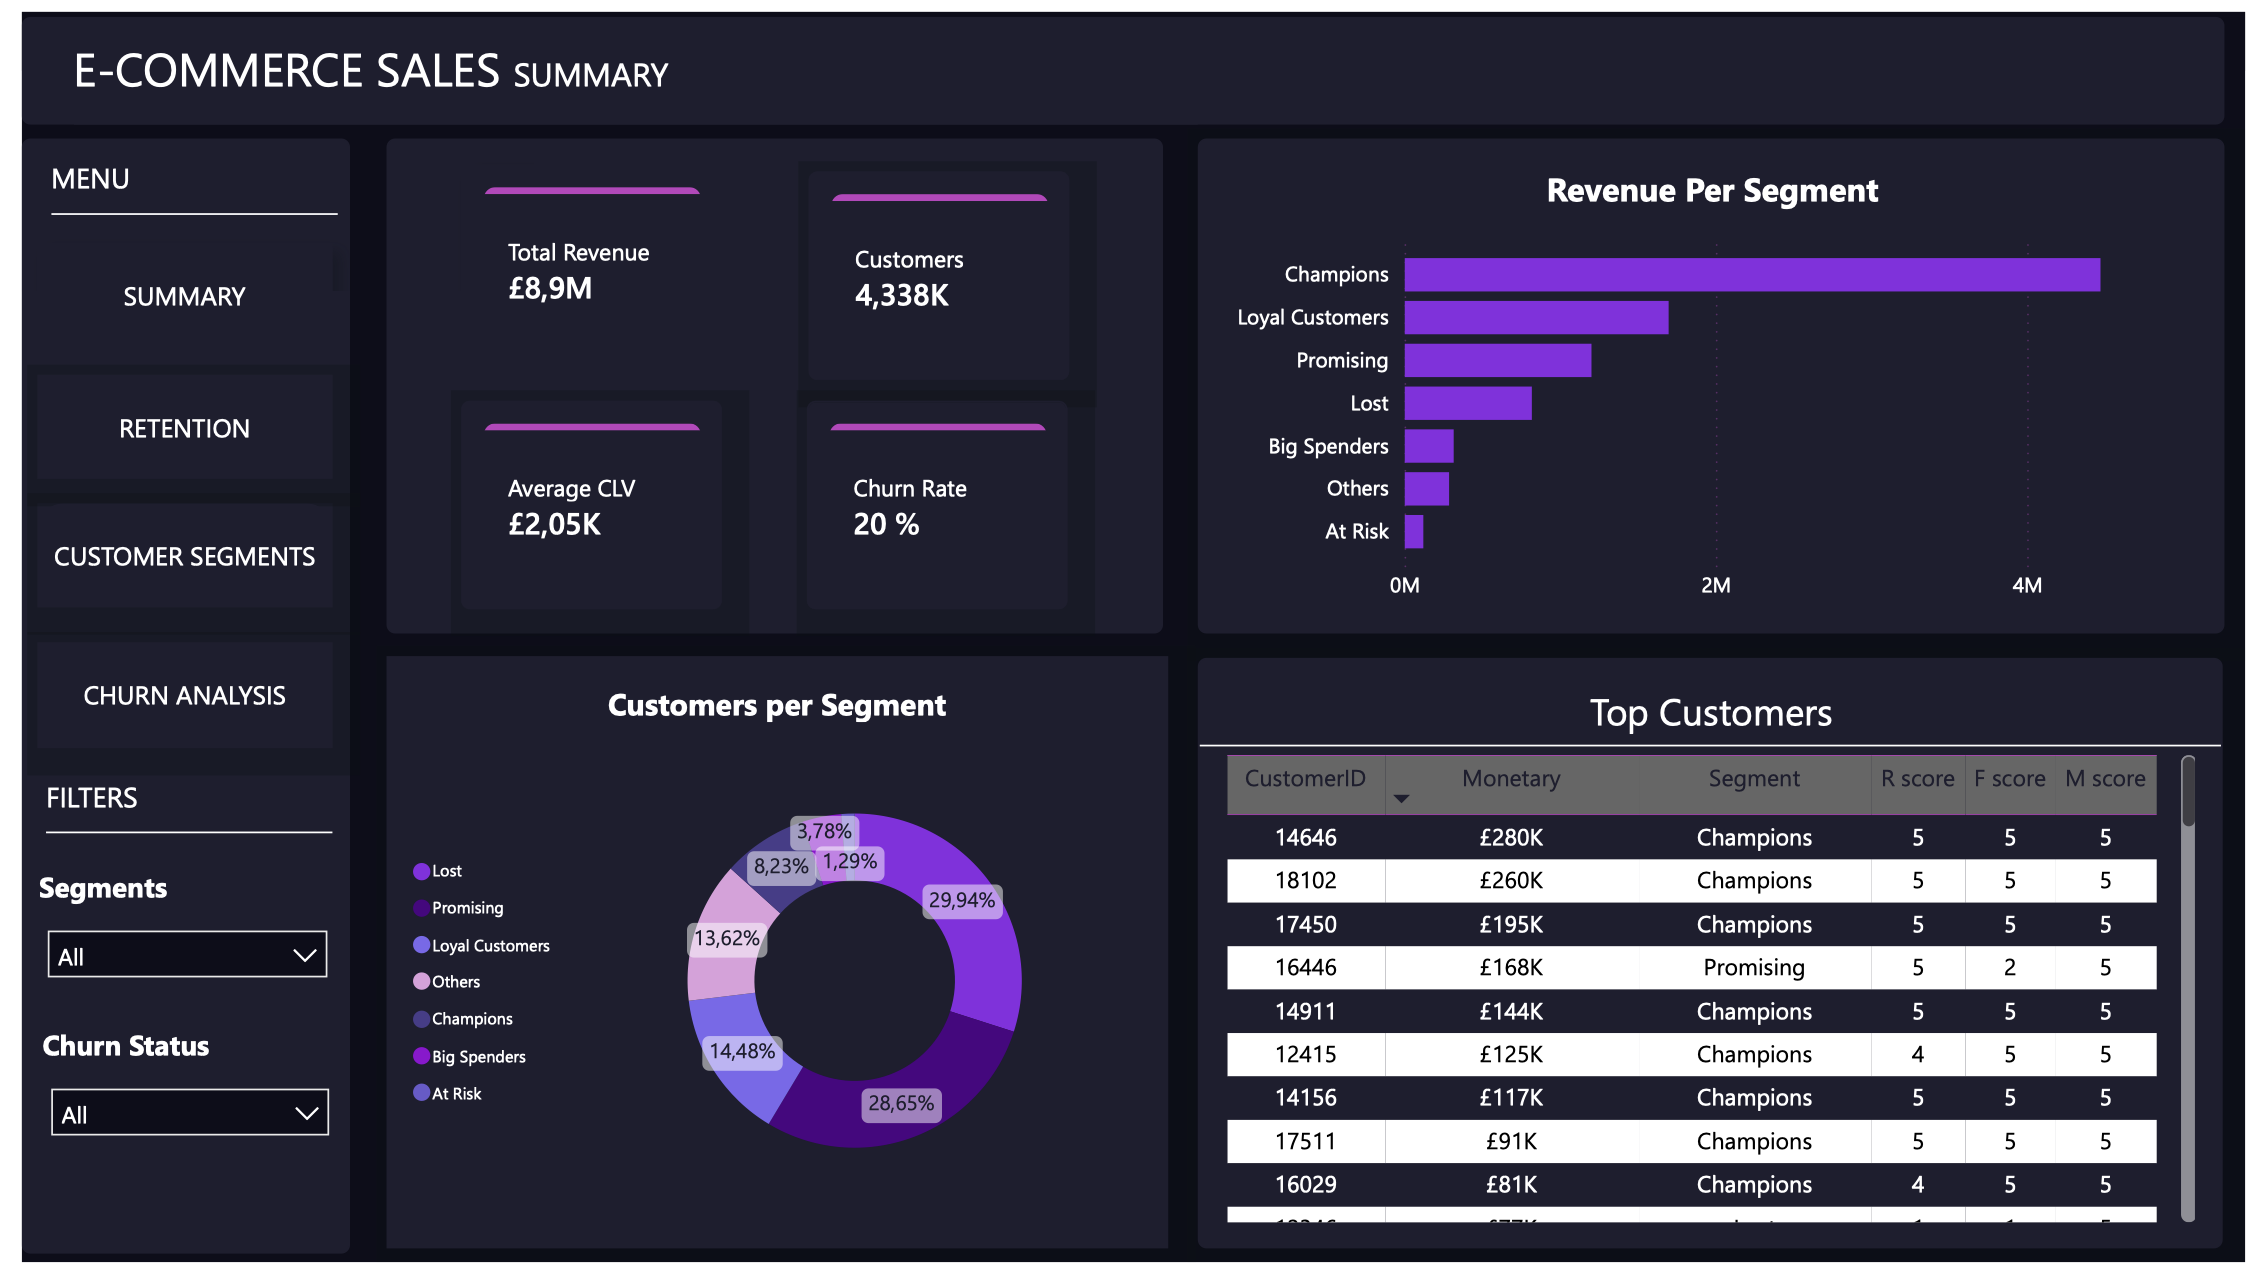

The dashboard page shown, as its layout file describes it:
{"tool":"powerbi","page":{"name":"SUMMARY","canvas":[1280,720],"ordinal":0},"visuals":[{"type":"shape","box":[210,72.6,446.8,285.8],"z":0},{"type":"clusteredBarChart","title":"Revenue Per Segment","fields":{"Category":["segment_summary.customer_segment"],"Y":["segment_summary.Segment Revenue"]},"box":[677.4,72.6,590.5,285.8],"z":1000},{"type":"donutChart","title":"Customers per Segment","fields":{"Category":["segment_summary.customer_segment"],"Y":["Sum(segment_summary.num_customers)"]},"box":[210.5,371,449.7,340.7],"z":2000},{"type":"tableEx","title":"Top Customers","fields":{"Values":["RFM_segment.CustomerID","Sum(RFM_segment.monetary)","RFM_segment.customer_segment","Sum(RFM_segment.R_score)","Sum(RFM_segment.F_score)","Sum(RFM_segment.M_score)"]},"box":[676.8,371.7,590.5,340.7],"z":3000},{"type":"cardVisual","fields":{"Data":["RFM_segment.Total Revenue"]},"box":[252.6,88.4,150,120],"z":4000},{"type":"cardVisual","fields":{"Data":["RFM_segment.Total Customers"]},"box":[453.2,91.6,150,120],"z":5000},{"type":"cardVisual","fields":{"Data":["RFM_segment.Churn Rate"]},"box":[451.6,224.2,150,120],"z":6000},{"type":"cardVisual","fields":{"Data":["RFM_segment.Average CLV"]},"box":[252.6,224.2,150,120],"z":7000},{"type":"shape","box":[0,3.2,1267.9,61.6],"z":8000},{"type":"shape","box":[0,72.7,189.3,642],"z":9000},{"type":"textbox","title":"MENU","box":[16.7,84.8,165,71.2],"z":10000},{"type":"textbox","box":[30.3,13.6,646.6,51.5],"z":11000},{"type":"actionButton","title":"CUSTOMER SEGMENTS","box":[9.1,133,169.6,60.6],"z":12000},{"type":"actionButton","title":"CUSTOMER SEGMENTS","box":[9.1,208.7,169.6,60.6],"z":13000},{"type":"actionButton","title":"CUSTOMER SEGMENTS","box":[9.1,282.9,169.6,60.6],"z":14000},{"type":"actionButton","title":"CUSTOMER SEGMENTS","box":[9.1,363.1,169.6,60.6],"z":15000},{"type":"slicer","title":"Segments","fields":{"Values":["RFM_segment.customer_segment"]},"box":[9.1,492.1,172.6,77.2],"z":16000},{"type":"textbox","title":"FILTERS","box":[13.6,440.6,165,66.6],"z":17000},{"type":"slicer","title":"Churn Status","fields":{"Values":["customer_churn_analysis.churn_status"]},"box":[10.6,583,172.6,77.2],"z":18000}]}

Visuals, with their boxes in screenshot pixels (x1, y1, x2, y2), scaled from the page's 1280x720 canvas onto the 2262x1278 screenshot:
shape: x1=371, y1=129, x2=1161, y2=636
"Revenue Per Segment" clusteredBarChart: x1=1197, y1=129, x2=2241, y2=636
"Customers per Segment" donutChart: x1=372, y1=659, x2=1167, y2=1263
"Top Customers" tableEx: x1=1196, y1=660, x2=2240, y2=1265
cardVisual - RFM_segment.Total Revenue: x1=446, y1=157, x2=711, y2=370
cardVisual - RFM_segment.Total Customers: x1=801, y1=163, x2=1066, y2=376
cardVisual - RFM_segment.Churn Rate: x1=798, y1=398, x2=1063, y2=611
cardVisual - RFM_segment.Average CLV: x1=446, y1=398, x2=711, y2=611
shape: x1=0, y1=6, x2=2241, y2=115
shape: x1=0, y1=129, x2=335, y2=1269
"MENU" textbox: x1=30, y1=151, x2=321, y2=277
textbox: x1=54, y1=24, x2=1196, y2=116
"CUSTOMER SEGMENTS" actionButton: x1=16, y1=236, x2=316, y2=344
"CUSTOMER SEGMENTS" actionButton: x1=16, y1=370, x2=316, y2=478
"CUSTOMER SEGMENTS" actionButton: x1=16, y1=502, x2=316, y2=610
"CUSTOMER SEGMENTS" actionButton: x1=16, y1=645, x2=316, y2=752
"Segments" slicer: x1=16, y1=873, x2=321, y2=1011
"FILTERS" textbox: x1=24, y1=782, x2=316, y2=900
"Churn Status" slicer: x1=19, y1=1035, x2=324, y2=1172
